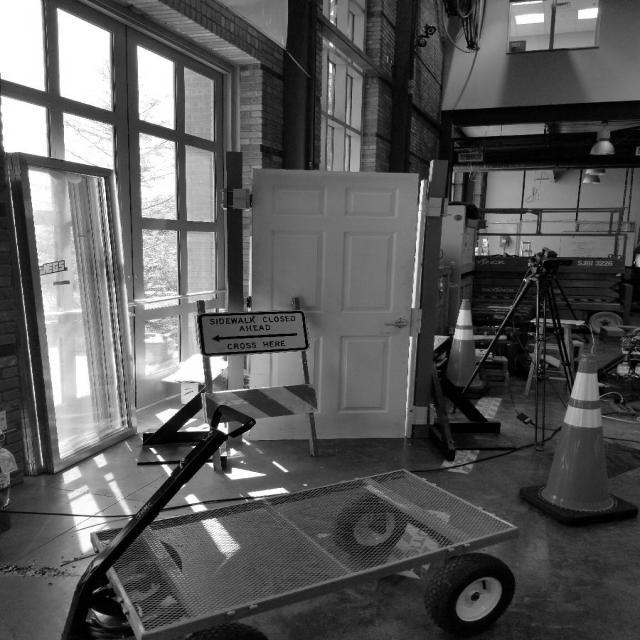door: (243, 166, 418, 442), (378, 316, 410, 333)
